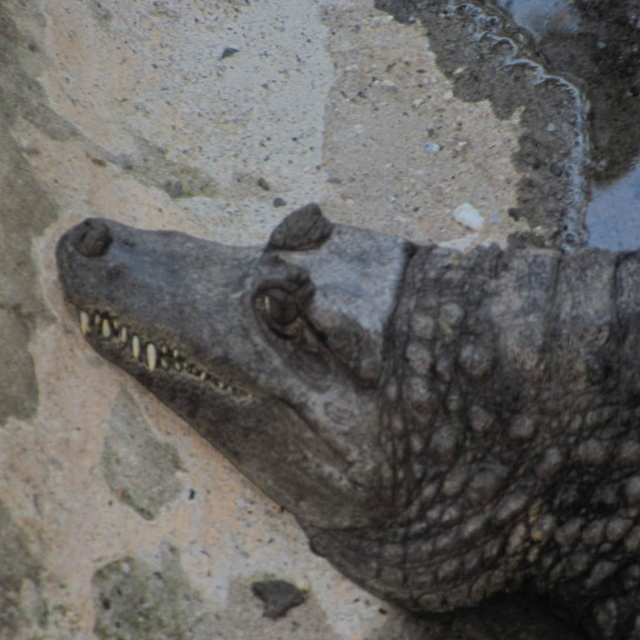Crocodile: (52, 205, 640, 613)
